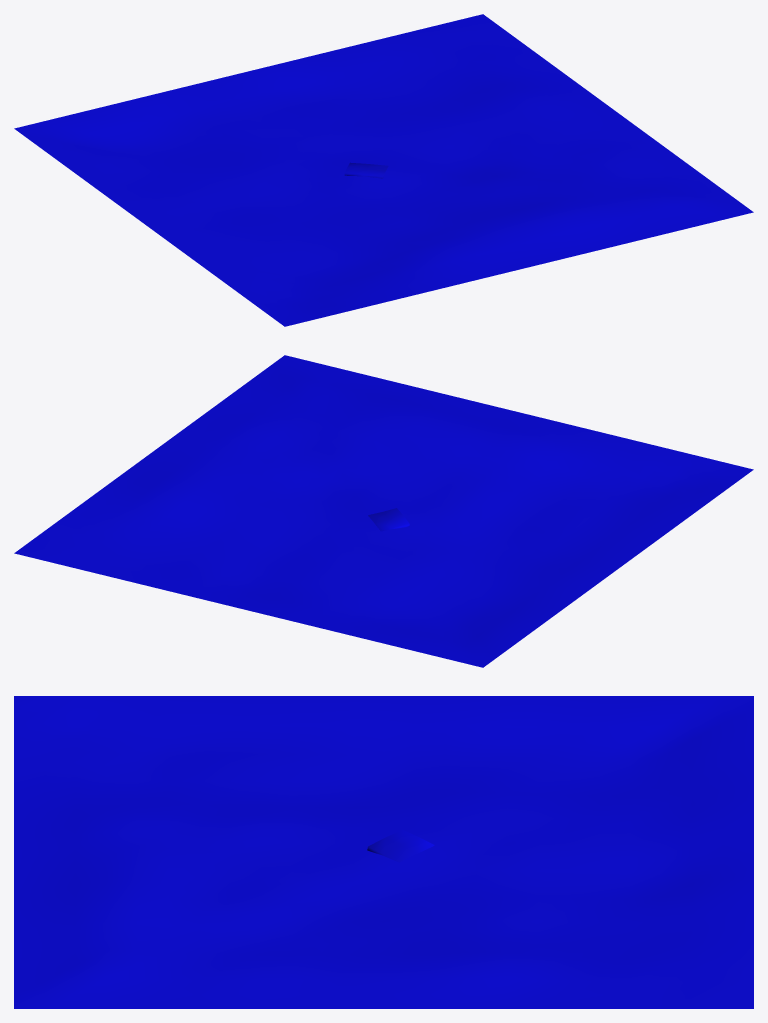
Rendered from seafloor_patch_a.glb.
3 renders of one model, top to bottom at view 1: azimuth 30°, elevation 25°; view 2: azimuth 150°, elevation 25°; view 3: azimuth 270°, elevation 25°, orthographic. The views are drawn at different scales.
Visible parts, largest first — view 1: seafloor_patch_a; view 2: seafloor_patch_a; view 3: seafloor_patch_a.
Boxes of the visible parts, x1=… form: seafloor_patch_a: x1=14, y1=14, x2=753, y2=326; seafloor_patch_a: x1=14, y1=355, x2=753, y2=667; seafloor_patch_a: x1=14, y1=696, x2=753, y2=1008.
Size of what is drawn, in the model's own units: 12 by 0.4112 by 12.
